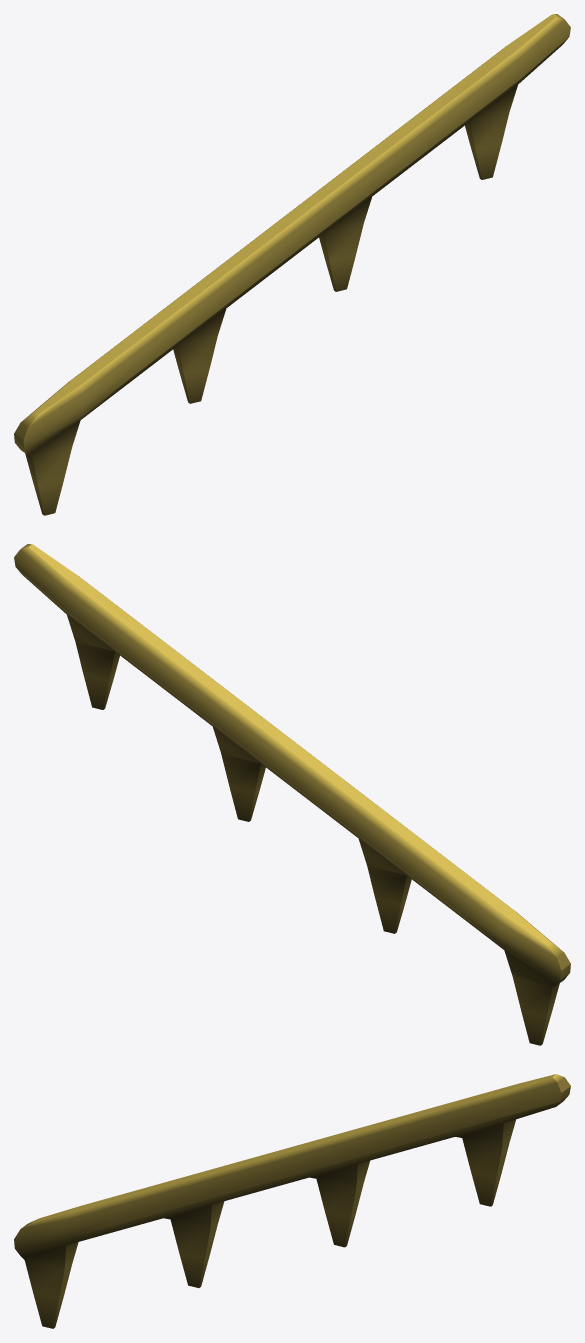
Rendered from Stairs1_1.2.fbx.
3 views of the same model, one above another, from view 1: azimuth 30°, elevation 25°; view 2: azimuth 150°, elevation 25°; view 3: azimuth 330°, elevation 25° (orthographic).
Parts seen in each view (by area): view 1: Stairs1; view 2: Stairs1; view 3: Stairs1.
Boxes of the visible parts, <box> form: Stairs1: <box>14,14,570,515</box>; Stairs1: <box>14,544,570,1045</box>; Stairs1: <box>14,1074,570,1328</box>.
Bounding box in the file's own units: 394 × 258 × 24.59.
